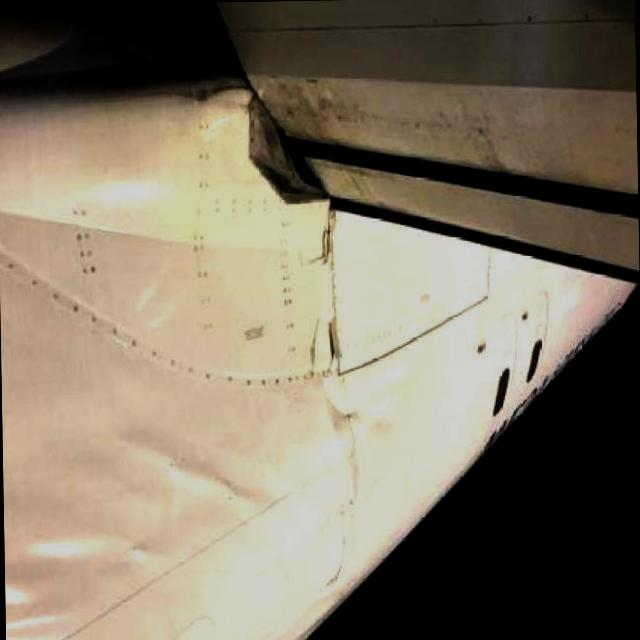dent: (145, 453, 263, 554), (323, 360, 381, 438), (6, 579, 78, 640), (27, 530, 124, 572), (141, 279, 185, 328)
